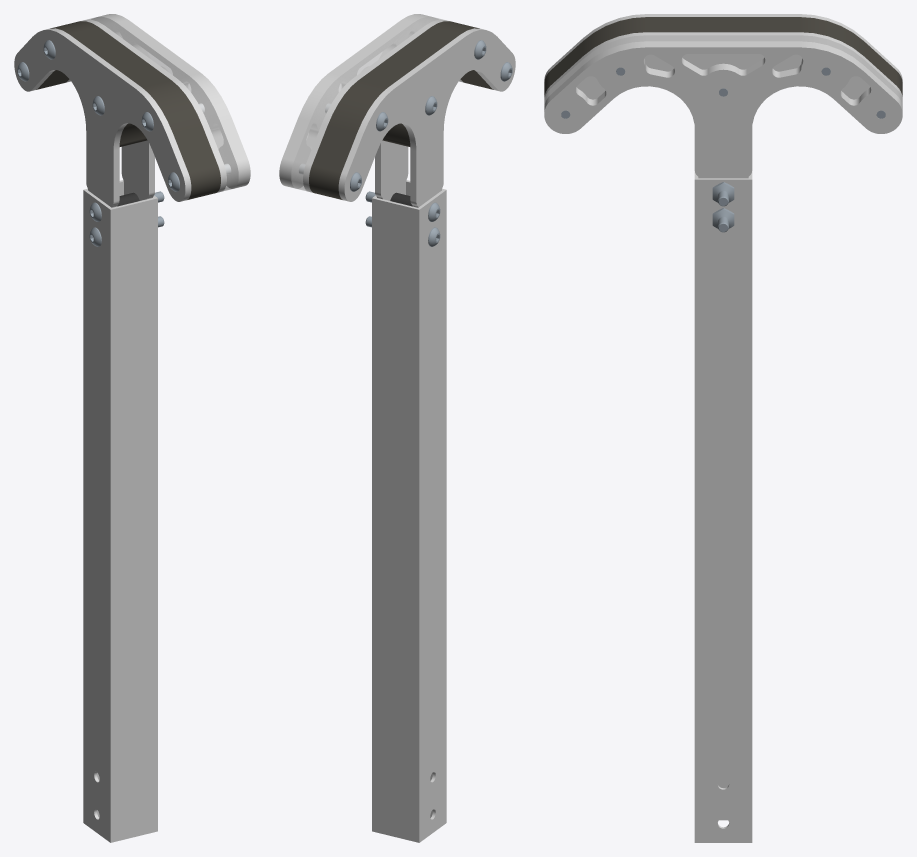
3 renders of one model, left to right at view 1: azimuth 30°, elevation 25°; view 2: azimuth 150°, elevation 25°; view 3: azimuth 270°, elevation 25°, orthographic. The views are drawn at different scales.
Parts seen in each view (by area): view 1: inner tube, hook (×2), 3d inside print, hook nut plate, hook polycarb; view 2: inner tube, hook (×2), 3d inside print, hook nut plate, hook polycarb; view 3: inner tube, hook nut plate, hook (×2), 3d inside print, hook polycarb.
Part boxes in pixels (box(x1,y1,x2,y2)): inner tube: box(83, 180, 157, 842); hook (×2): box(14, 19, 226, 207); 3d inside print: box(36, 21, 220, 199); hook nut plate: box(91, 14, 250, 188); hook polycarb: box(86, 17, 238, 191); inner tube: box(372, 180, 446, 842); hook (×2): box(303, 19, 515, 207); 3d inside print: box(309, 21, 493, 199); hook nut plate: box(279, 14, 438, 188); hook polycarb: box(291, 17, 443, 191); inner tube: box(694, 171, 752, 842); hook nut plate: box(544, 41, 902, 133); hook (×2): box(544, 14, 902, 178); 3d inside print: box(544, 17, 902, 96); hook polycarb: box(544, 35, 902, 105).
Bounding box in the file's own units: 0.0391 × 0.3937 × 0.1586.
